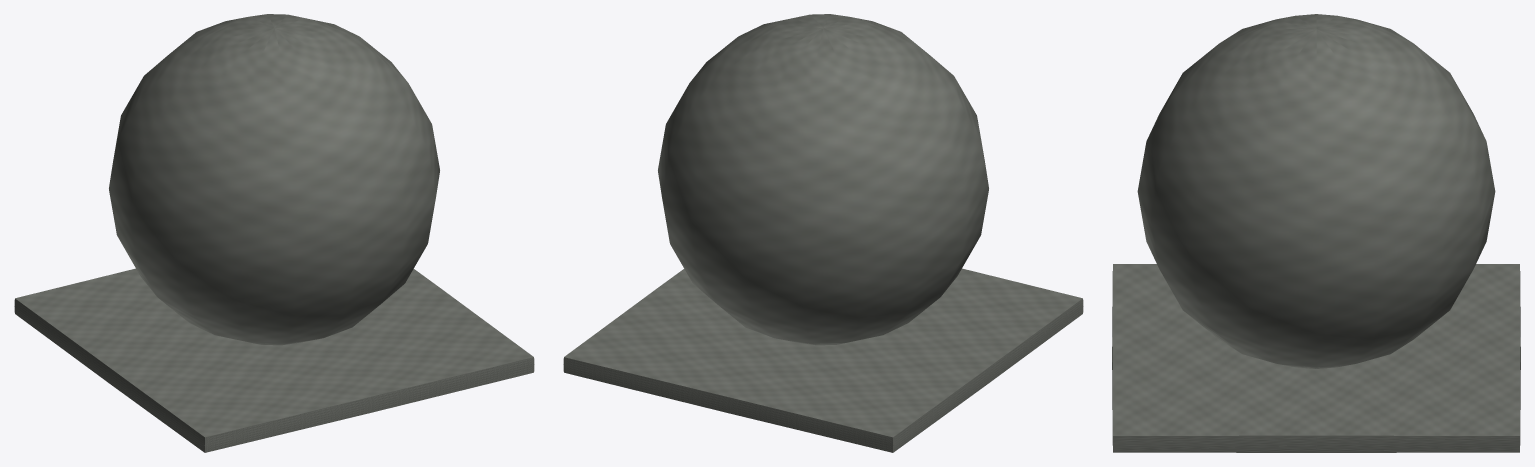
3 renders of one model, left to right at view 1: azimuth 30°, elevation 25°; view 2: azimuth 150°, elevation 25°; view 3: azimuth 270°, elevation 25°, orthographic. The views are drawn at different scales.
Visible parts, largest first — view 1: surface.0, surface.1; view 2: surface.0, surface.1; view 3: surface.0, surface.1.
Boxes of the visible parts, x1,y1,x2,y2 form: surface.0: (109,14,439,345); surface.1: (14,268,534,452); surface.0: (658,14,988,345); surface.1: (563,268,1083,452); surface.0: (1137,14,1495,368); surface.1: (1112,264,1520,452).
Size of the model in its own units: 0.8 by 0.73 by 0.8.
Materials: 1 (1 with a texture image).
